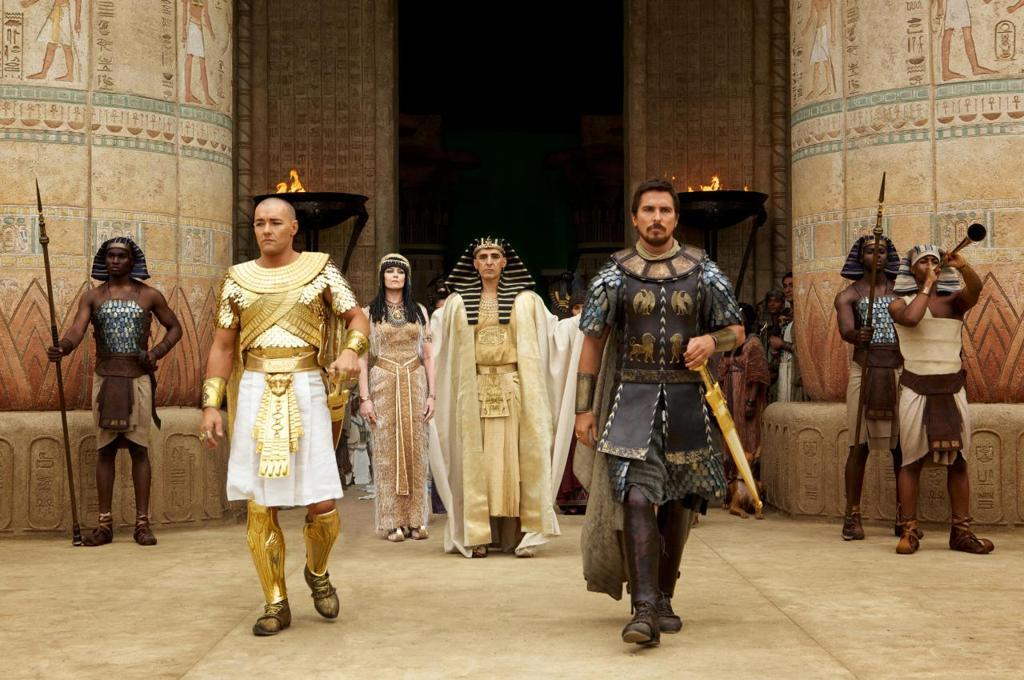face: (638, 193, 675, 246), (254, 207, 290, 254), (477, 250, 502, 280), (107, 248, 130, 277), (917, 256, 941, 283), (864, 245, 887, 271), (385, 266, 406, 289), (784, 279, 797, 302), (769, 297, 782, 314), (574, 306, 589, 320), (779, 317, 791, 331)
